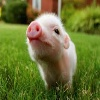heo: (21, 10, 74, 65)
